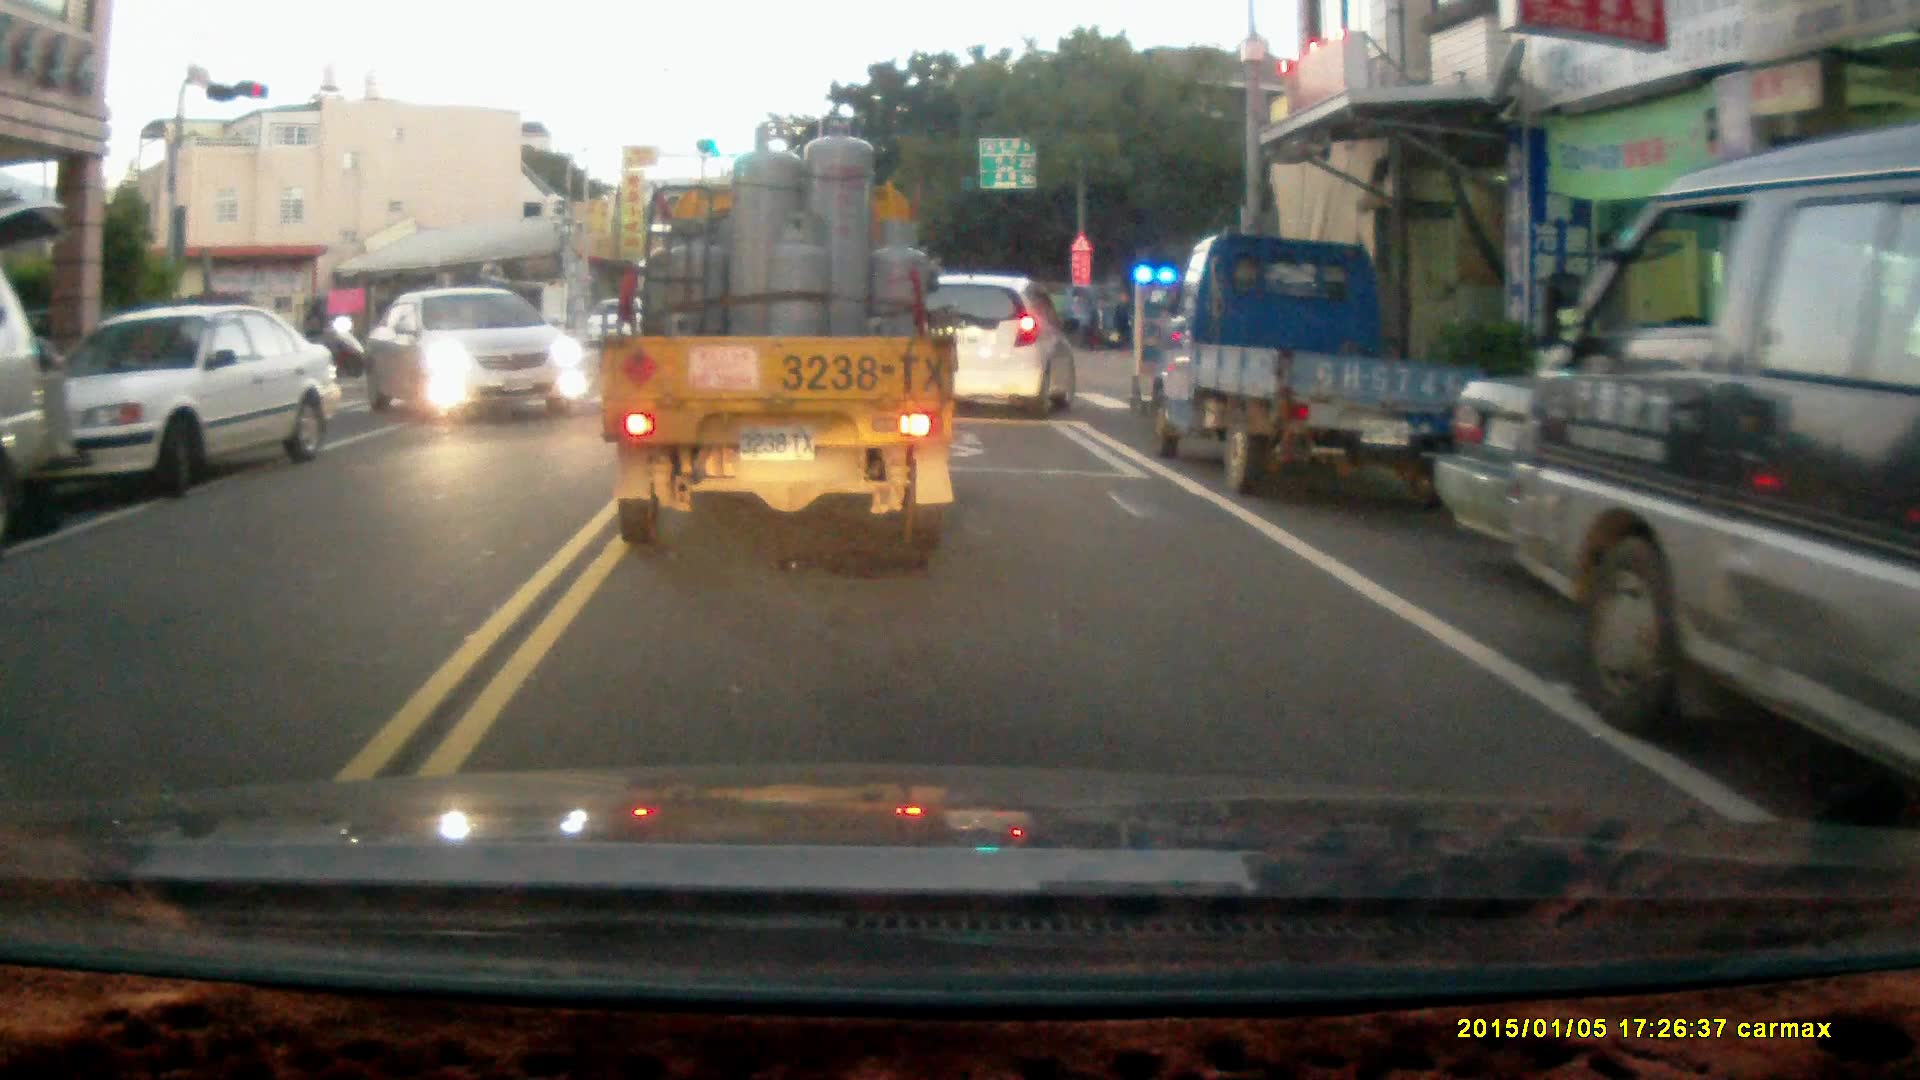rider: (283, 295, 367, 381)
vehicle: (1507, 127, 1920, 811), (598, 117, 962, 556), (1150, 233, 1480, 507), (33, 307, 349, 496), (366, 288, 594, 419), (901, 271, 1083, 414)
